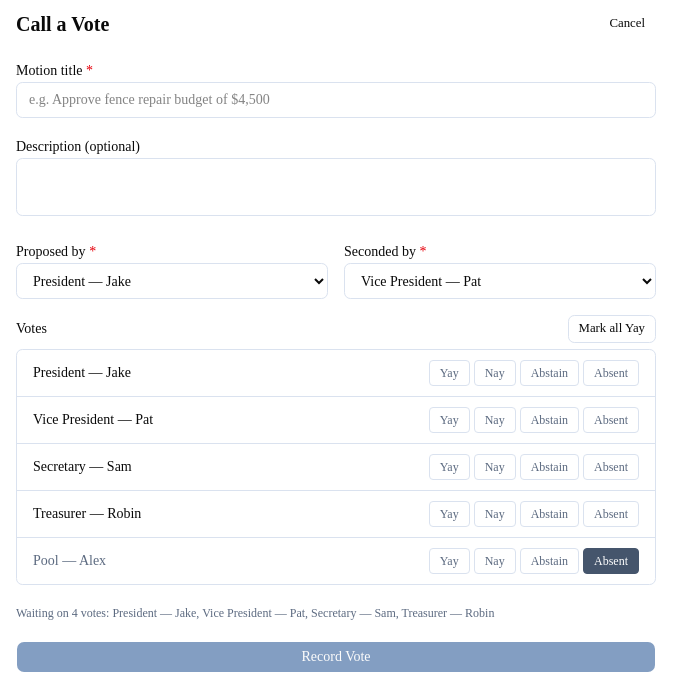
Test: VotePanel › names who is still outstanding
Click the 1st button "Yay" at x=449, y=373, box [429, 360, 470, 386]
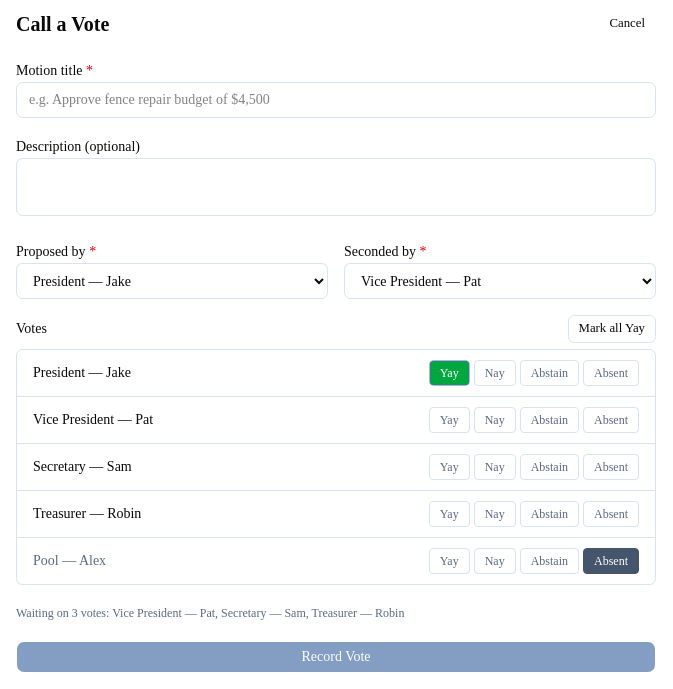
Expected: the text "Vice President — Pat" is shown, [112, 606, 404, 620]
Expected: the text "Waiting on 3 votes" is shown, [16, 606, 404, 620]
